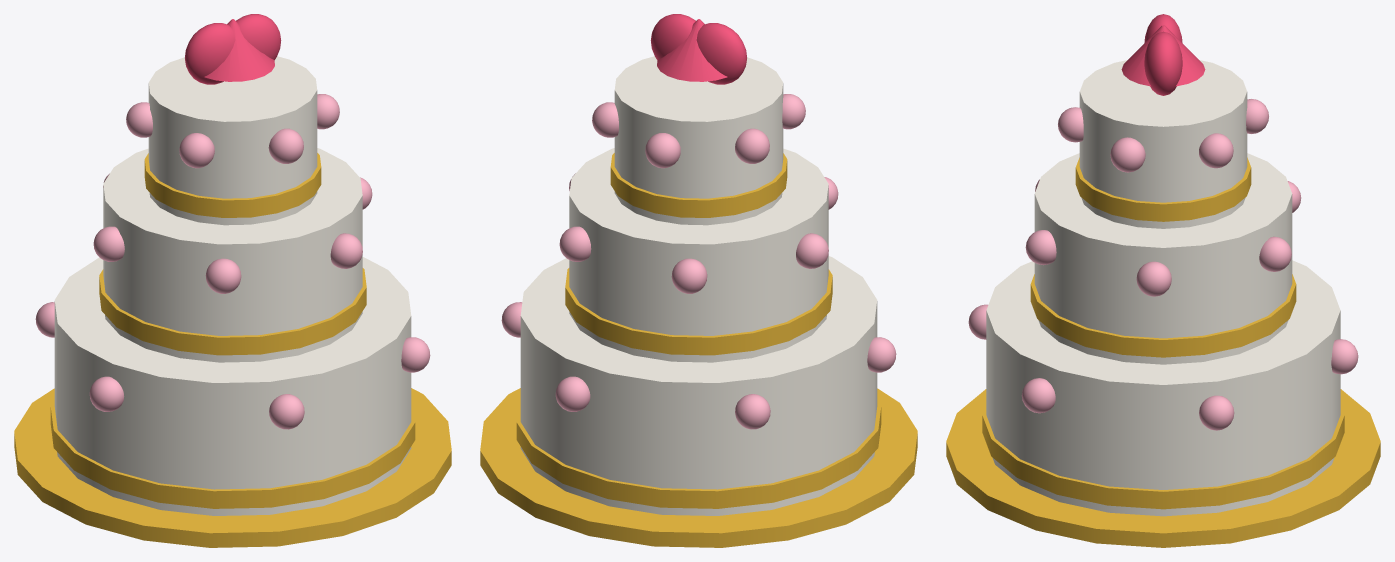
The model's file is Bakery_L9.fbx.
3 views of the same model, side by side, from view 1: azimuth 30°, elevation 25°; view 2: azimuth 150°, elevation 25°; view 3: azimuth 270°, elevation 25° (orthographic).
Parts seen in each view (by area): view 1: B9_Tier (×3), B9_Base, B9_Ribbon (×3), B9_Rose (×11), B9_HeartL, B9_HeartTip, B9_HeartR; view 2: B9_Tier (×3), B9_Base, B9_Ribbon (×3), B9_Rose (×11), B9_HeartL, B9_HeartTip, B9_HeartR; view 3: B9_Tier (×3), B9_Base, B9_Ribbon (×3), B9_Rose (×11), B9_HeartR, B9_HeartTip, B9_HeartL.
Part boxes in pixels (x1,y1,x2,y2): B9_Tier (×3): (54, 56, 411, 515); B9_Base: (14, 388, 451, 547); B9_Ribbon (×3): (50, 153, 415, 508); B9_Rose (×11): (35, 94, 430, 429); B9_HeartL: (185, 23, 235, 84); B9_HeartTip: (204, 19, 274, 81); B9_HeartR: (236, 14, 281, 60); B9_Tier (×3): (520, 56, 877, 515); B9_Base: (480, 388, 917, 547); B9_Ribbon (×3): (516, 153, 881, 508); B9_Rose (×11): (501, 94, 896, 429); B9_HeartL: (696, 23, 746, 84); B9_HeartTip: (657, 19, 727, 81); B9_HeartR: (650, 14, 695, 60); B9_Tier (×3): (986, 60, 1340, 516); B9_Base: (946, 389, 1380, 547); B9_Ribbon (×3): (982, 157, 1344, 509); B9_Rose (×11): (968, 99, 1358, 430); B9_HeartR: (1144, 31, 1182, 95); B9_HeartTip: (1121, 25, 1205, 86); B9_HeartL: (1144, 14, 1182, 42).
Bounding box in the file's own units: 27 × 29.5 × 27.
